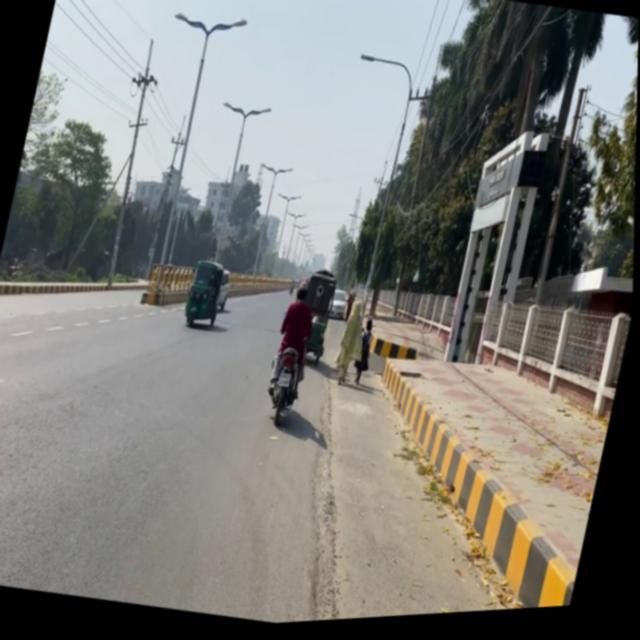Construction-barrier: (275, 375, 389, 627), (0, 252, 151, 324)
Fallen-tree: (260, 346, 310, 433)
Garbage: (141, 260, 196, 314), (300, 322, 330, 370)
Garbage-bin: (267, 287, 324, 406), (352, 321, 380, 390)
Pothole: (329, 346, 618, 624)
Traffic-cone: (182, 259, 236, 334)
